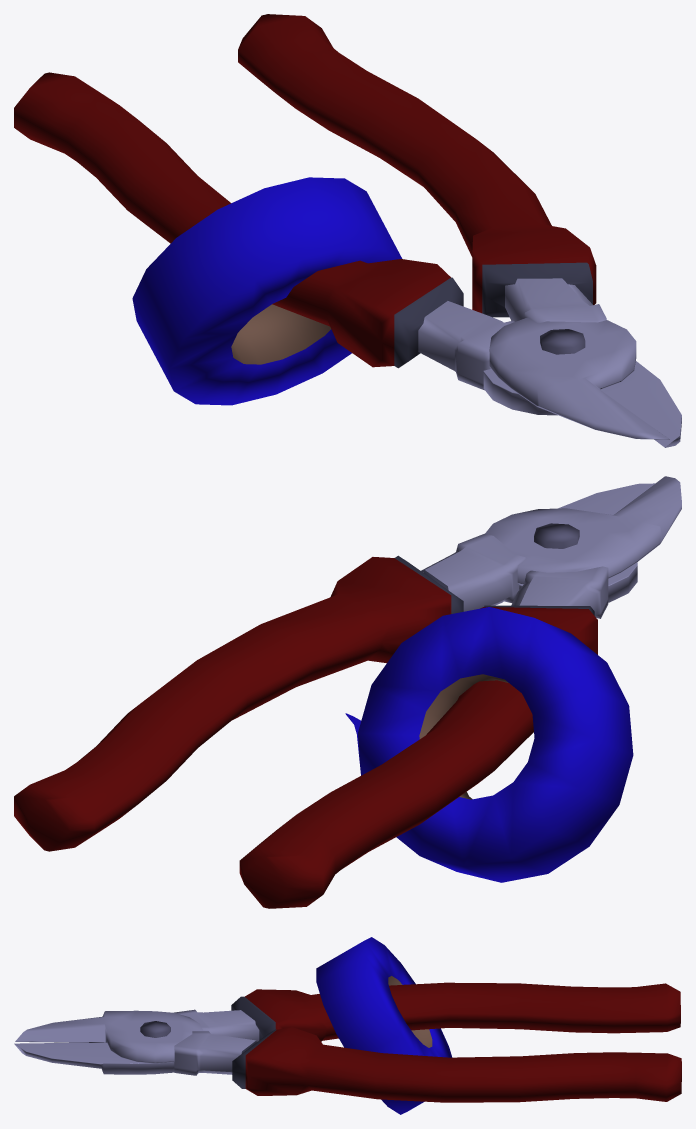
File: wirecutterswithtape.fbx
3 renders of one model, top to bottom at view 1: azimuth 30°, elevation 25°; view 2: azimuth 150°, elevation 25°; view 3: azimuth 270°, elevation 25°, orthographic. The views are drawn at different scales.
Visible parts, largest first — view 1: Cube; view 2: Cube; view 3: Cube.
Boxes of the visible parts, x1,y1,x2,y2 form: Cube: [14, 14, 681, 447]; Cube: [14, 476, 681, 908]; Cube: [14, 937, 681, 1114].
Size of the model in its own units: 159 by 372 by 96.55.
